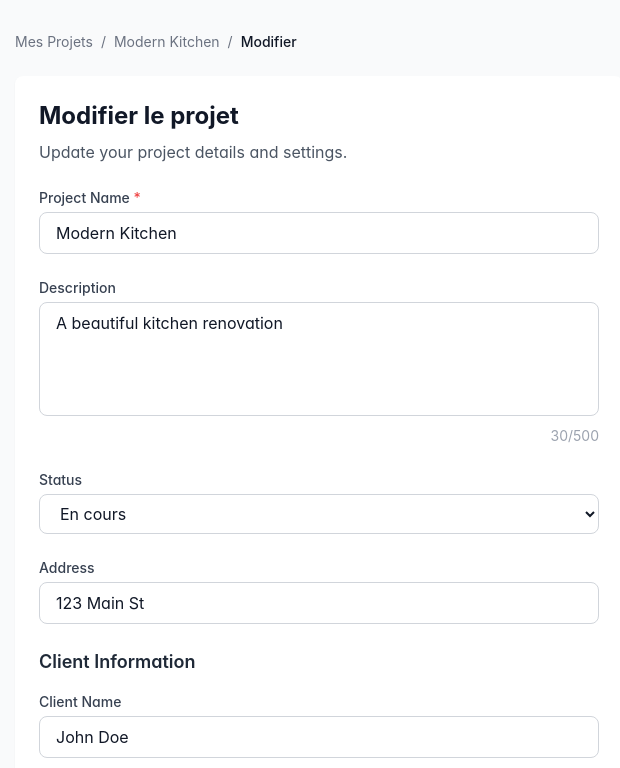
Test case: ProjectEdit › Form Validation › should clear error when user starts typing in errored field
Clear the field labelled "Project Name *" at (319, 233), box [39,212,599,254]
(page scrolled)
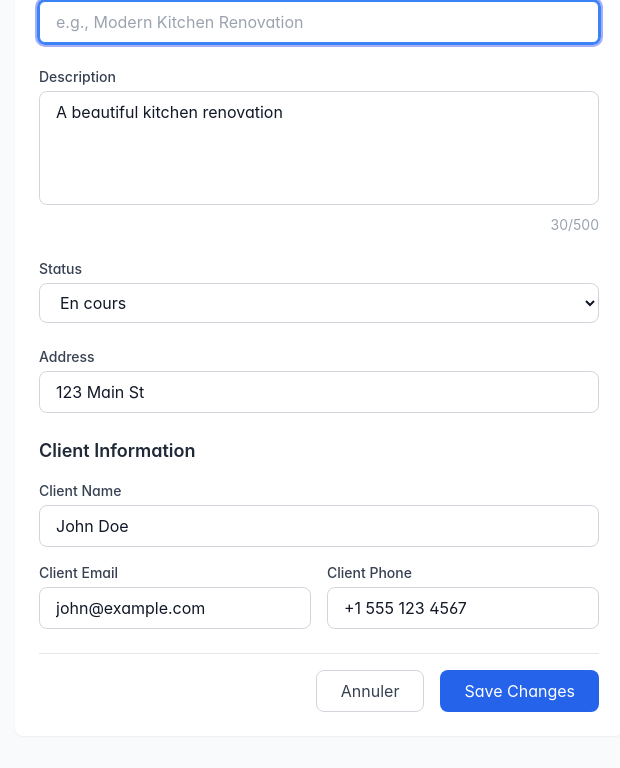
Click the button "Save Changes" at (520, 691), box [440,670,599,712]
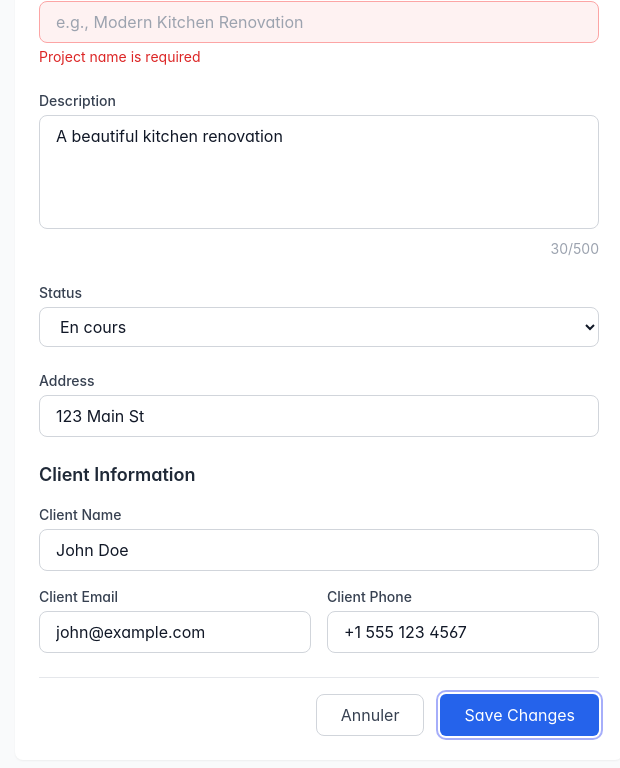
Now the text "Project name is required" is shown, box [39,48,201,65]
Type "T" into the field labelled "Project Name *" at (319, 22), box [39,1,599,43]
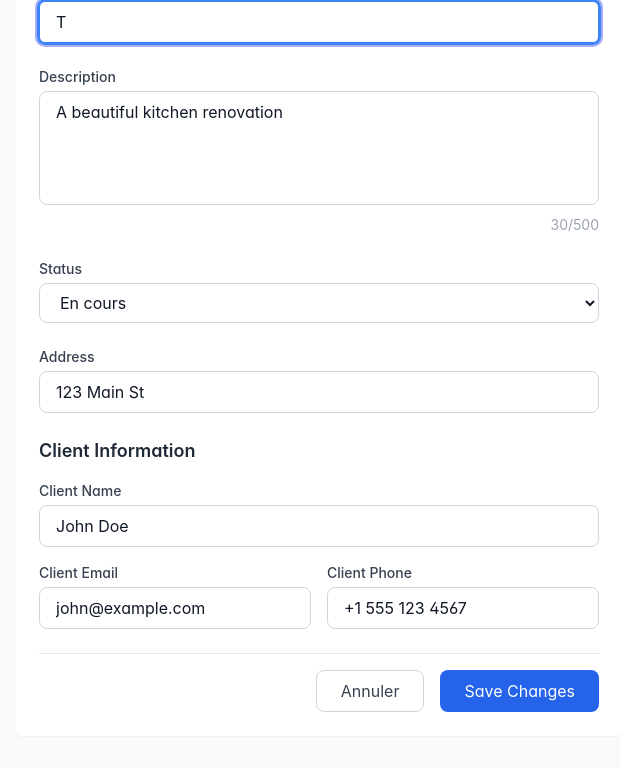
Now the text "Project name is required" is gone
